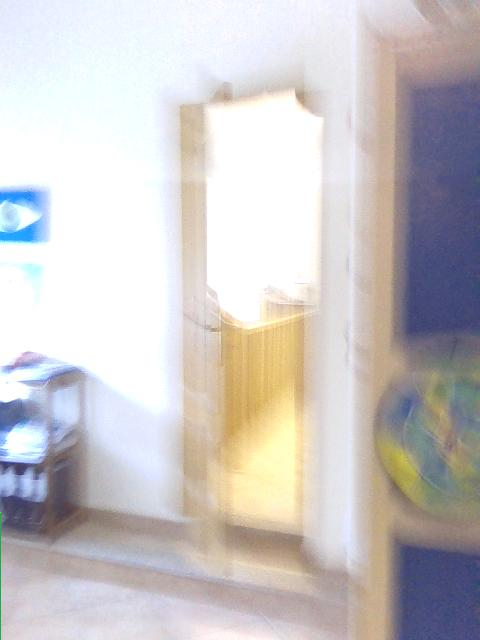semi_door: (175, 80, 326, 544)
